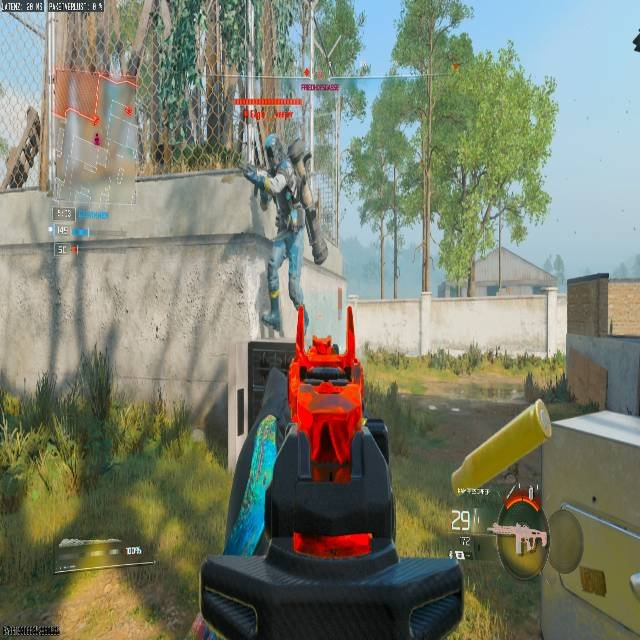head: (264, 133, 285, 160)
player: (242, 133, 310, 302)
